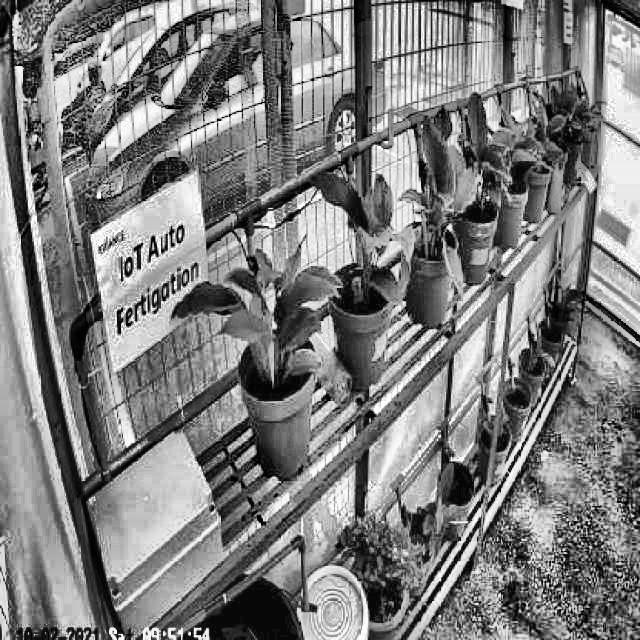plants: (172, 228, 340, 378), (398, 106, 468, 322), (311, 162, 414, 304), (446, 89, 522, 217)
